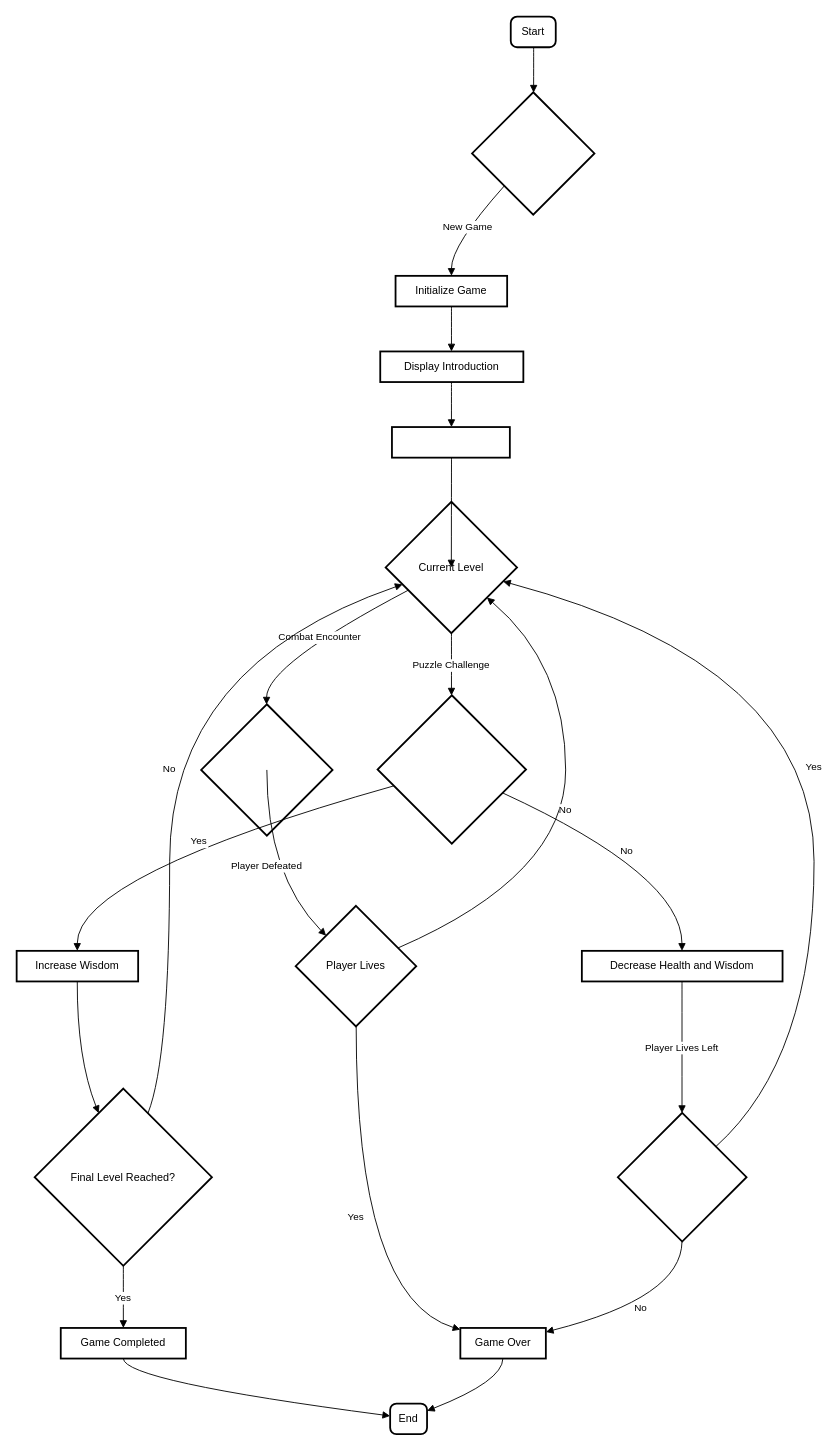
Some shapes in this 839 by 1450 pixel diagram are drawn without their labels. Each missing label, with the centre of its shape:
"Answer Correct?" goes at pixel 451 769.
"Generate Levels" goes at pixel 450 442.
"Player Health" goes at pixel 266 769.
"Player Input" goes at pixel 533 153.
"Restart Level" goes at pixel 681 1177.
